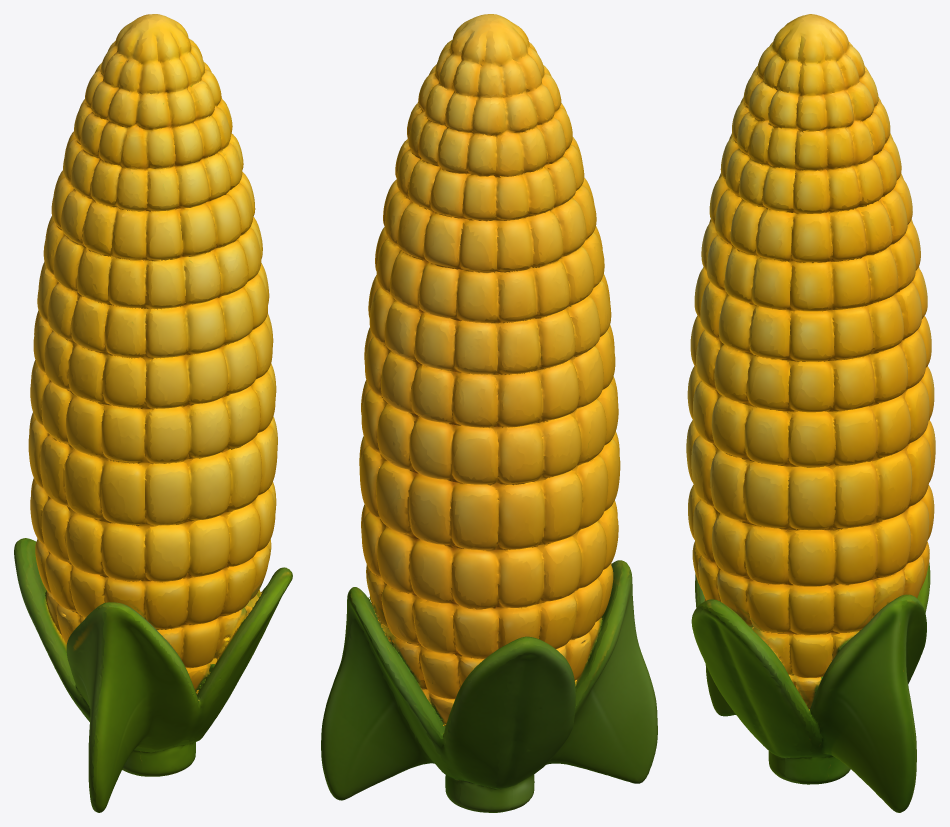
File: corn-missile-lux3d-v1.glb
3 views of the same model, side by side, from view 1: azimuth 30°, elevation 25°; view 2: azimuth 150°, elevation 25°; view 3: azimuth 270°, elevation 25° (orthographic). The views are drawn at different scales.
Visible parts, largest first — view 1: geometry_0; view 2: geometry_0; view 3: geometry_0.
Part boxes in pixels (box(x1,y1,x2,y2)): geometry_0: box(14, 14, 292, 812); geometry_0: box(321, 14, 657, 812); geometry_0: box(686, 14, 935, 812).
Size of the model in its own units: 0.18 by 0.574 by 0.1725.
1 material, 1 textured.
